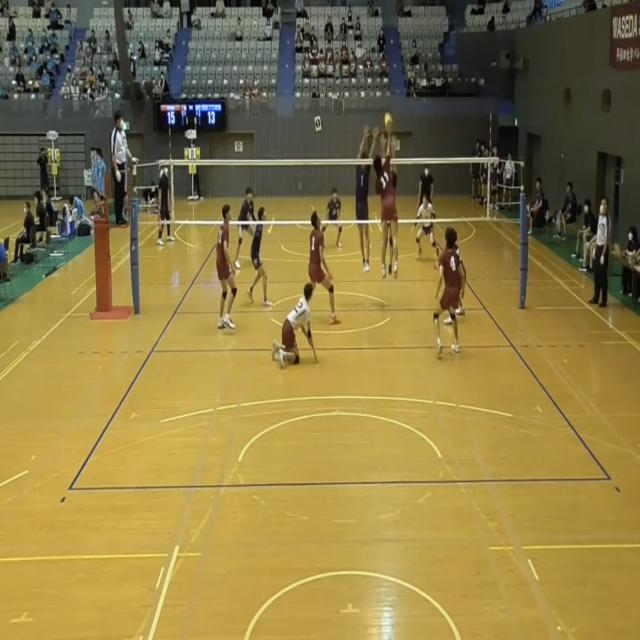spike: (370, 112, 407, 285)
